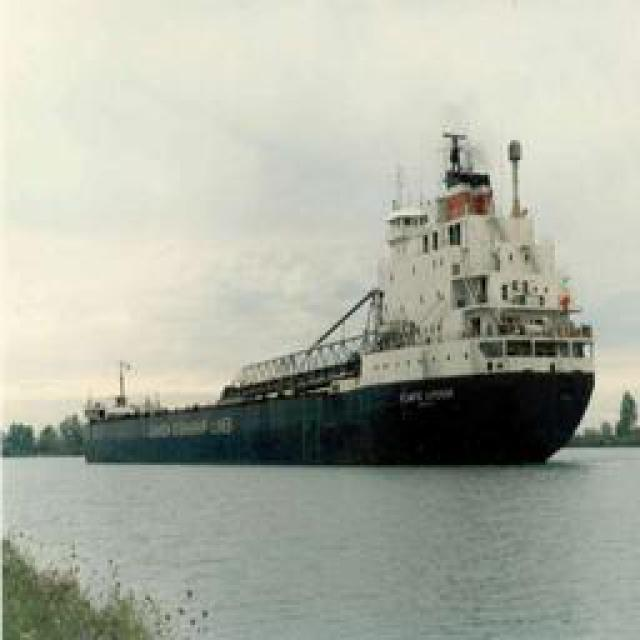Ship: (103, 116, 591, 466)
